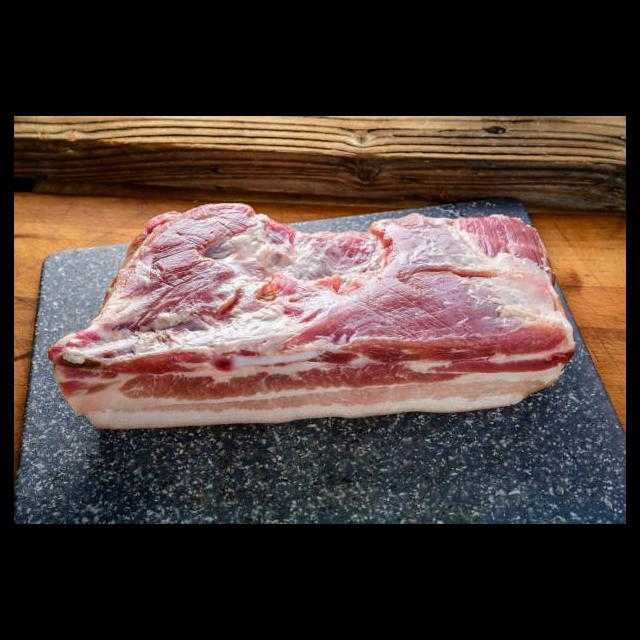pork: (50, 200, 575, 433)
